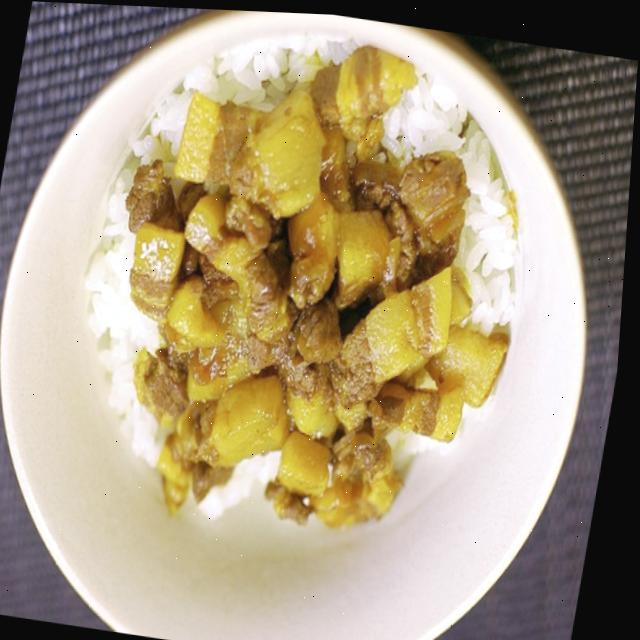猪肉菜式: (0, 20, 611, 623)
